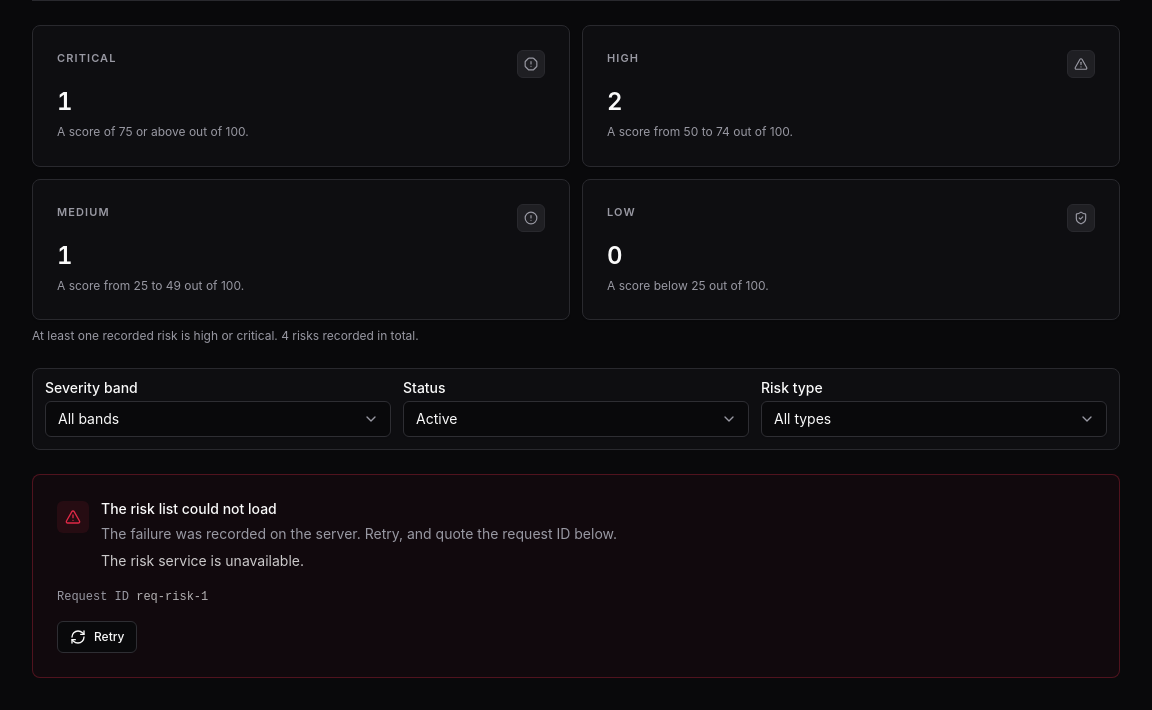
risk center page › reports a failed list with a retry that asks again and recovers
The width and height of the screenshot is (1152, 710).
(page scrolled)
Expected: the message shows "The risk list could not load", [101, 500, 277, 517]
Expected: the message shows "The failure was recorded on the server. Retry, and quote the request ID below.", [101, 525, 617, 542]
What coordinates should you click on to do the following:
click the button "Retry"
I would click on:
 (97, 637)
Its box is [57, 621, 138, 653].
(page scrolled)
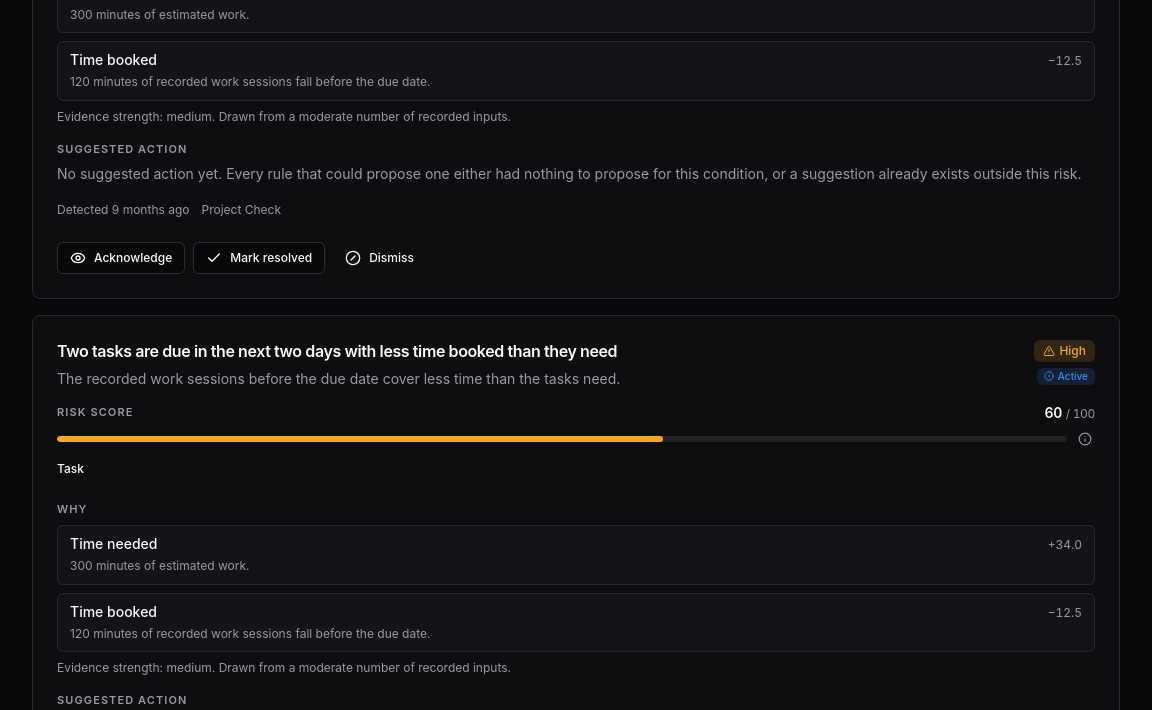
Expected: the heading "Two tasks are due in the next two days with less time booked than they need" is shown, [57, 340, 620, 362]
Expected: the message "The risk list could not load The failure was recorded on the server. Retry, and" is gone
